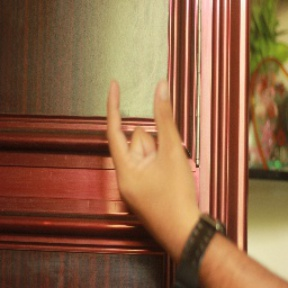U: (97, 74, 195, 200)
